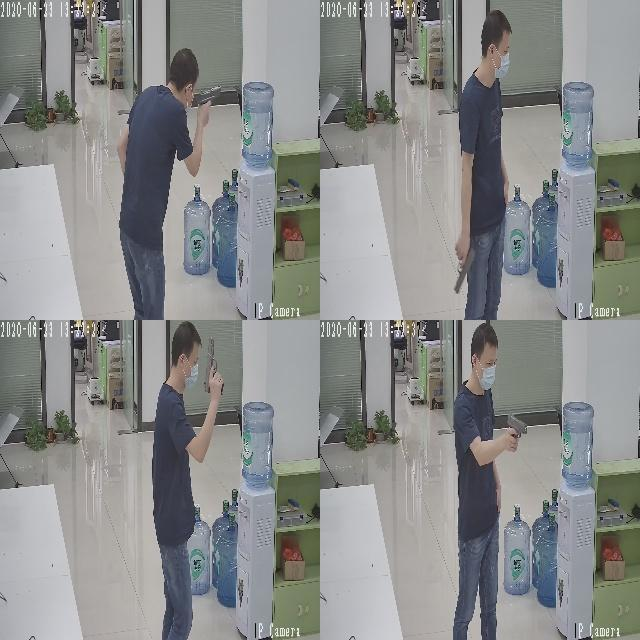gun-knife-thesis - v11 Yolov5 augmented: (451, 233, 475, 294), (201, 328, 223, 391), (197, 81, 221, 124), (505, 411, 527, 452)
